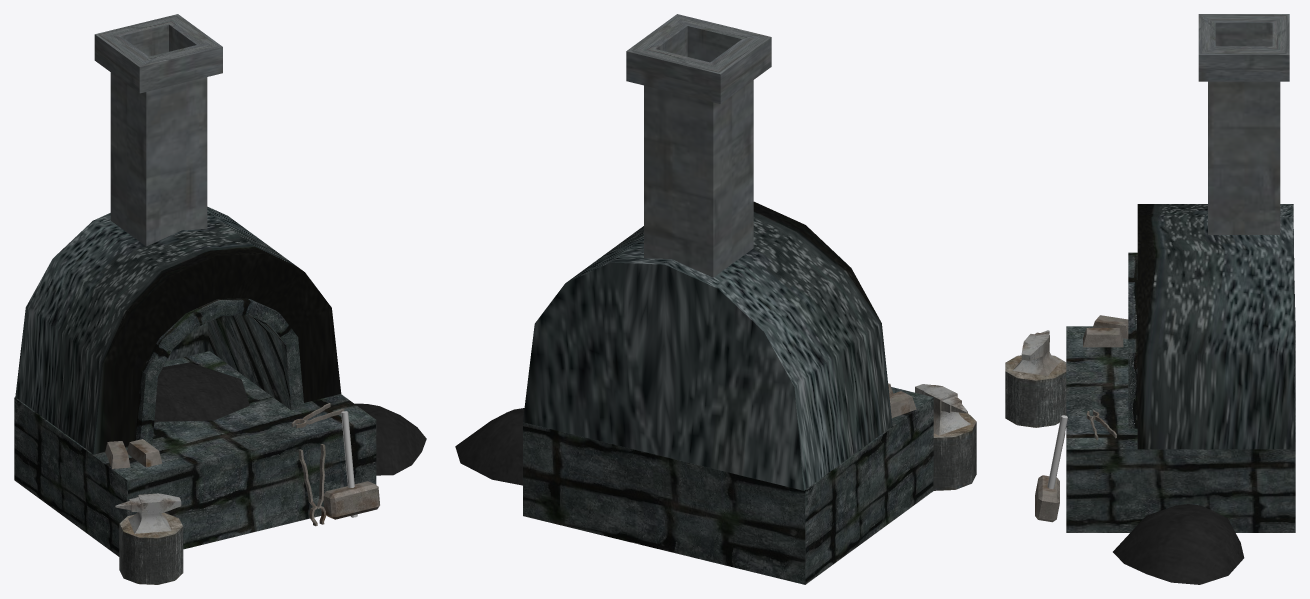
Rendered from blacksmith_shop.FBX.
3 renders of one model, left to right at view 1: azimuth 30°, elevation 25°; view 2: azimuth 150°, elevation 25°; view 3: azimuth 270°, elevation 25°, orthographic. The views are drawn at different scales.
Parts seen in each view (by area): view 1: blacksmith_shop; view 2: blacksmith_shop; view 3: blacksmith_shop.
Boxes of the visible parts, x1,y1,x2,y2 form: blacksmith_shop: (14, 14, 426, 584); blacksmith_shop: (455, 14, 976, 584); blacksmith_shop: (1005, 14, 1295, 584).
Size of what is drawn, in the model's own units: 68.56 by 45.19 by 74.61.
